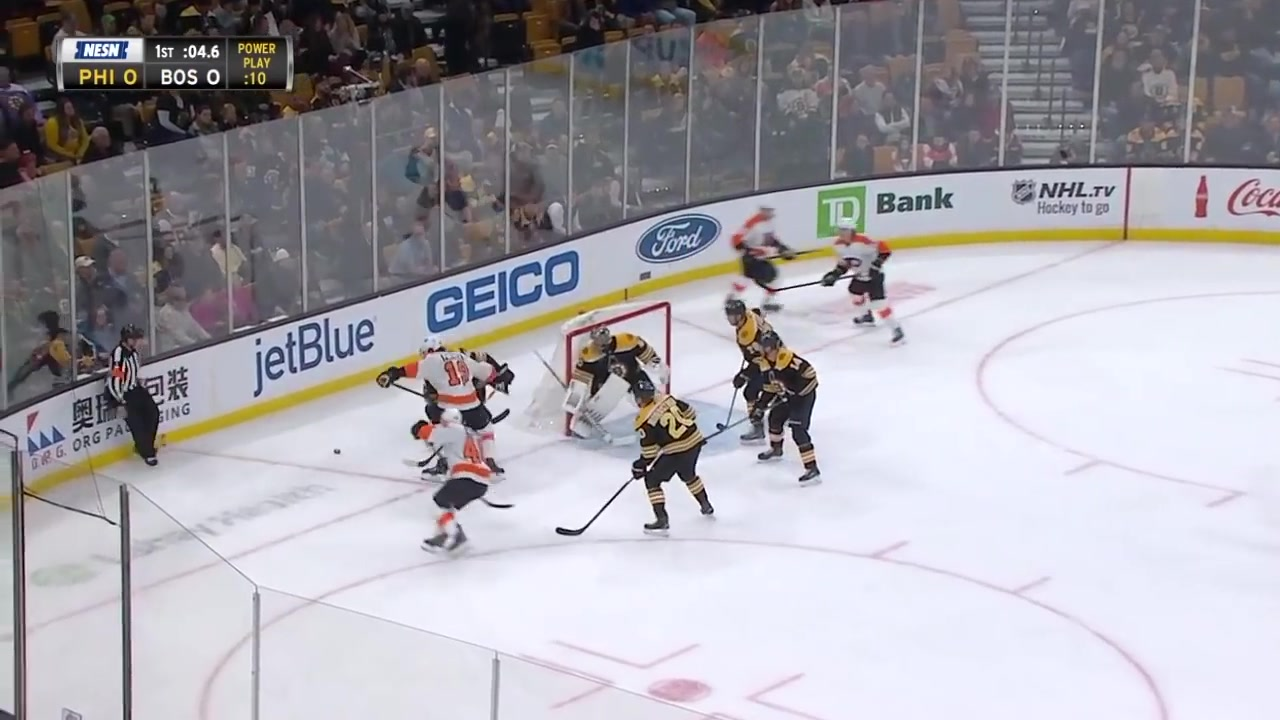Geico: (415, 243, 591, 344)
